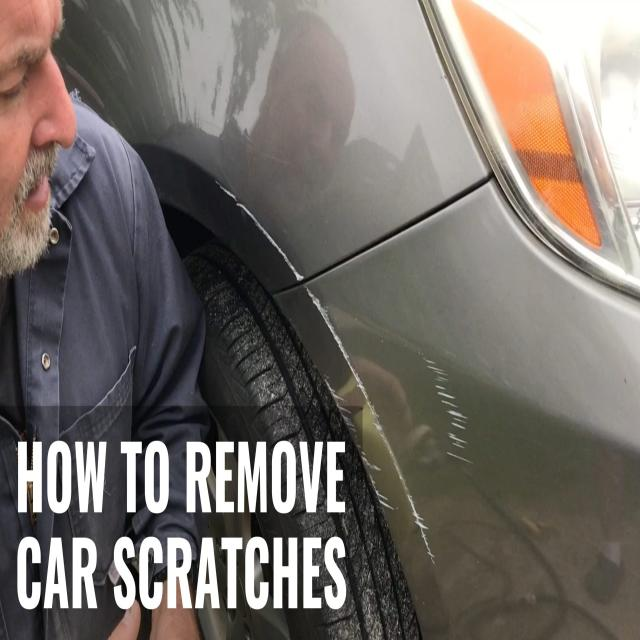scratch: (214, 169, 438, 565), (323, 374, 400, 513), (422, 352, 473, 469)
